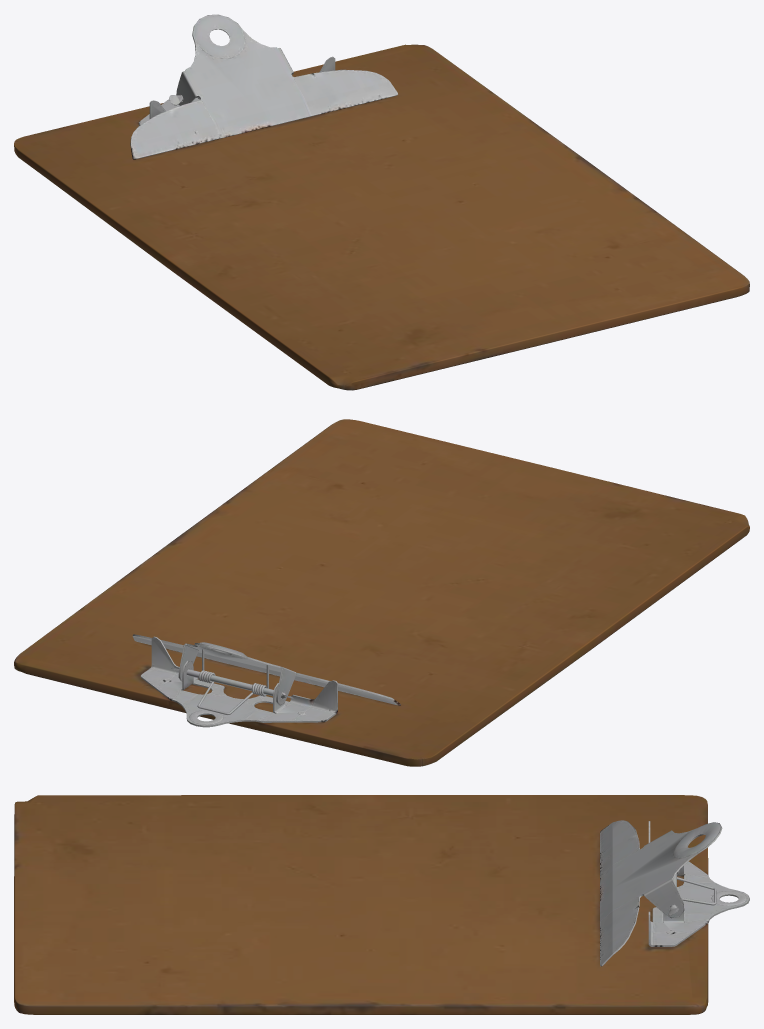
File: clipboard.glb
3 renders of one model, top to bottom at view 1: azimuth 30°, elevation 25°; view 2: azimuth 150°, elevation 25°; view 3: azimuth 270°, elevation 25°, orthographic. The views are drawn at different scales.
Visible parts, largest first — view 1: clipboard; view 2: clipboard; view 3: clipboard.
Boxes of the visible parts, <box> form: clipboard: <box>14,14,749,390</box>; clipboard: <box>14,419,749,766</box>; clipboard: <box>14,795,749,1014</box>.
Size of the model in its own units: 0.2286 by 0.042 by 0.3366.
1 material, 1 textured.
